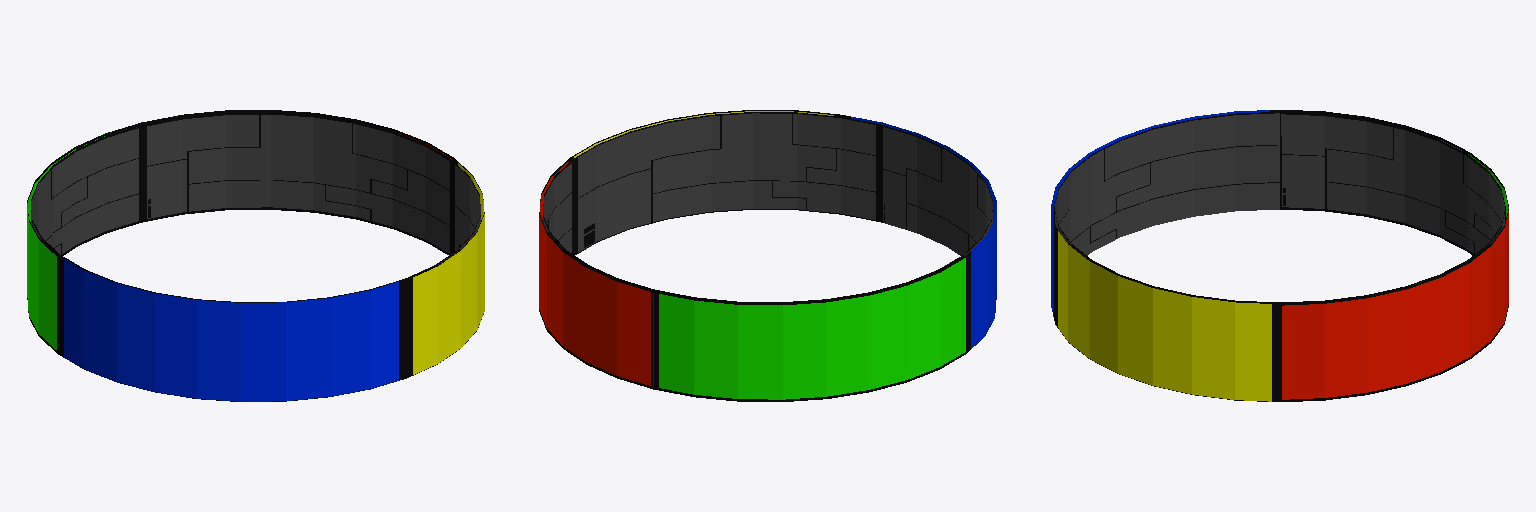
3 views of the same model, side by side, from view 1: azimuth 30°, elevation 25°; view 2: azimuth 150°, elevation 25°; view 3: azimuth 270°, elevation 25° (orthographic).
Visible parts, largest first — view 1: Cylinder, Cylinder.001; view 2: Cylinder, Cylinder.001; view 3: Cylinder, Cylinder.001.
Boxes of the visible parts, <box> form: Cylinder: <box>27,110,484,401</box>; Cylinder.001: <box>31,112,480,302</box>; Cylinder: <box>539,110,996,401</box>; Cylinder.001: <box>543,112,992,302</box>; Cylinder: <box>1051,110,1508,401</box>; Cylinder.001: <box>1054,112,1505,302</box>.
Size of the model in its own units: 2 by 0.4786 by 2.
Materials: 2 (2 with a texture image).